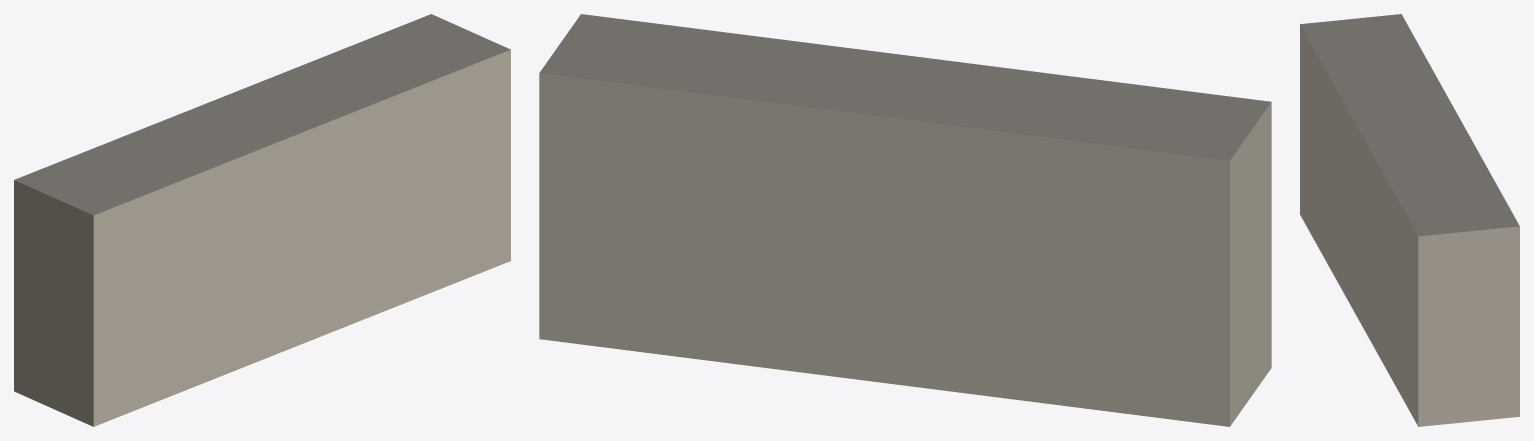
3 views of the same model, side by side, from view 1: azimuth 30°, elevation 25°; view 2: azimuth 150°, elevation 25°; view 3: azimuth 270°, elevation 25° (orthographic). The views are drawn at different scales.
Parts seen in each view (by area): view 1: HP-w702173499; view 2: HP-w702173499; view 3: HP-w702173499.
Part boxes in pixels (x1,y1,x2,y2): HP-w702173499: (14, 14, 510, 426); HP-w702173499: (539, 14, 1271, 426); HP-w702173499: (1300, 14, 1519, 426).
Size of the model in its own units: 45.09 by 18 by 18.83.
